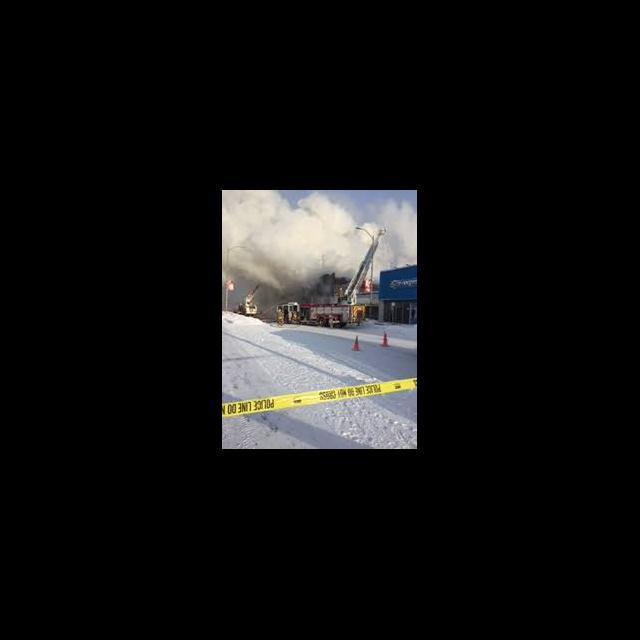Fire: (226, 278, 240, 292), (362, 276, 372, 295)
Smoke: (222, 190, 416, 272)
